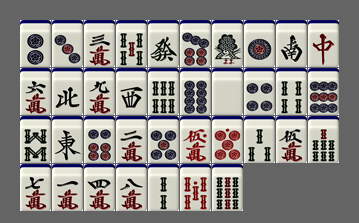0m: (180, 116, 211, 163)
0p: (212, 116, 243, 163)
0s: (180, 164, 211, 211)
1m: (52, 164, 83, 211)
1p: (244, 20, 275, 67)
1s: (212, 20, 243, 67)
1z: (52, 116, 83, 163)
2m: (116, 116, 147, 163)
2p: (20, 20, 51, 67)
2s: (148, 164, 179, 211)
2z: (276, 20, 307, 67)
3m: (84, 20, 115, 67)
3p: (52, 20, 83, 67)
3s: (244, 116, 275, 163)
3z: (116, 68, 147, 115)
4m: (84, 164, 115, 211)
4p: (244, 68, 275, 115)
4s: (276, 68, 307, 115)
4z: (52, 68, 83, 115)
5m: (276, 116, 307, 163)
5p: (148, 116, 179, 163)
5s: (116, 20, 147, 67)
5z: (212, 68, 243, 115)
6m: (20, 68, 51, 115)
6p: (84, 116, 115, 163)
6s: (148, 68, 179, 115)
6z: (148, 20, 179, 67)
7m: (20, 164, 51, 211)
7p: (180, 20, 211, 67)
7s: (308, 116, 339, 163)
7z: (308, 20, 339, 67)
8m: (116, 164, 147, 211)
8p: (180, 68, 211, 115)
8s: (20, 116, 51, 163)
9m: (84, 68, 115, 115)
9p: (308, 68, 339, 115)
9s: (212, 164, 243, 211)
